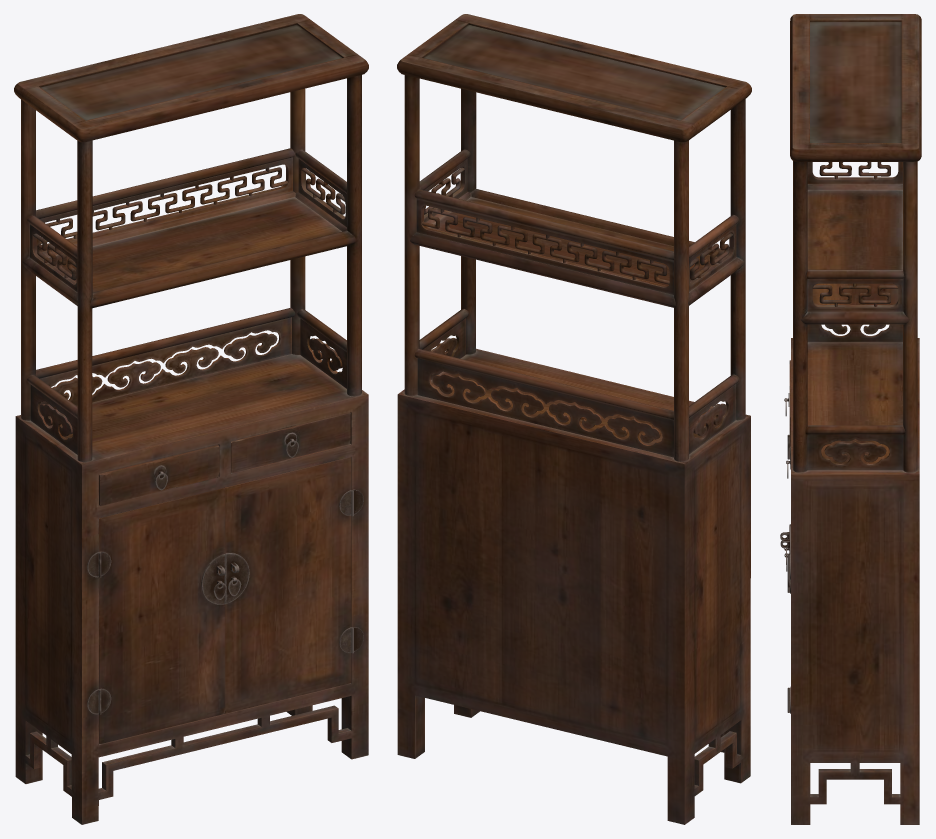
Rendered from chinese_cabinet.glb.
The picture shows the model from 3 angles, left to right: view 1: azimuth 30°, elevation 25°; view 2: azimuth 150°, elevation 25°; view 3: azimuth 270°, elevation 25°; orthographic projection. The views are drawn at different scales.
Parts seen in each view (by area): view 1: chinese_cabinet; view 2: chinese_cabinet; view 3: chinese_cabinet.
Boxes of the visible parts, x1,y1,x2,y2 form: chinese_cabinet: [14, 14, 368, 824]; chinese_cabinet: [397, 14, 751, 824]; chinese_cabinet: [780, 14, 921, 824].
Size of the model in its own units: 1.26 by 2.87 by 0.5452.
1 material, 1 textured.
